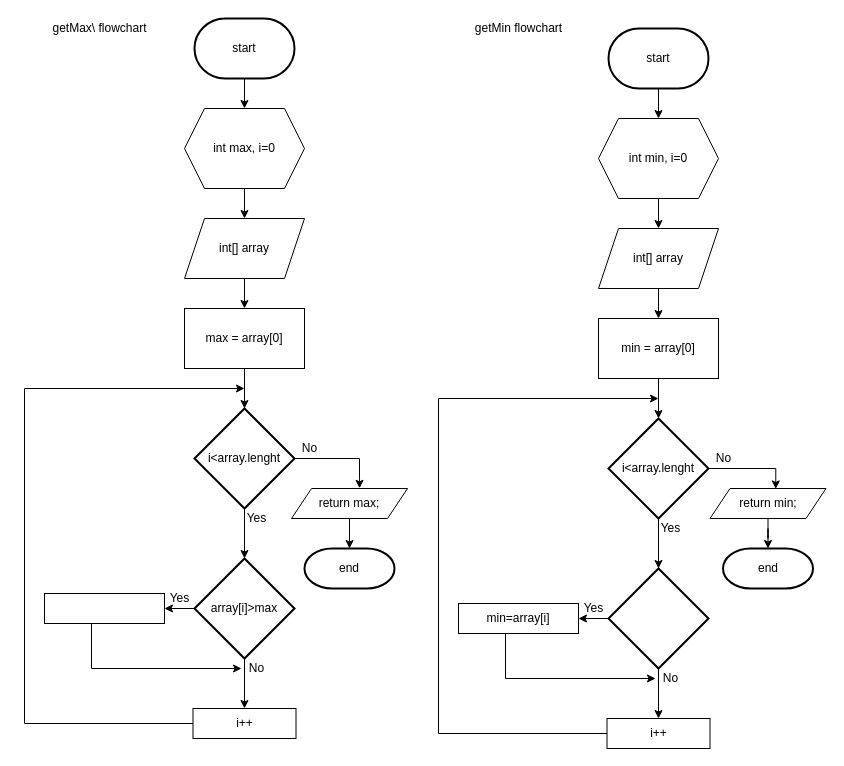
Some shapes in this 844 by 766 pixel diagram are drawn without their labels. Each missing label, with the centre of its shape:
array[i]<min: point 658,618
max=array[i]: point 104,608
